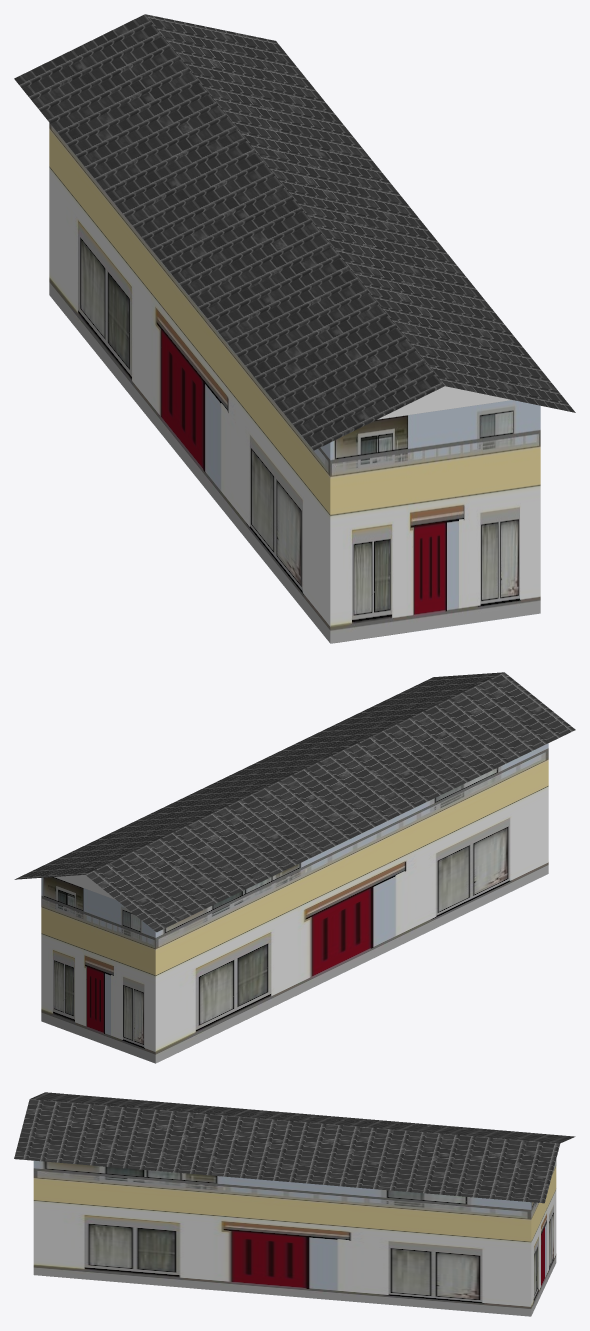
3 views of the same model, one above another, from view 1: azimuth 30°, elevation 25°; view 2: azimuth 150°, elevation 25°; view 3: azimuth 270°, elevation 25° (orthographic). The views are drawn at different scales.
Visible parts, largest first — view 1: CityEngineMaterial_16_m, CityEngineMaterial_15_m, CityEngineMaterial_3_m; view 2: CityEngineMaterial_15_m, CityEngineMaterial_16_m; view 3: CityEngineMaterial_15_m, CityEngineMaterial_16_m.
Part boxes in pixels (box(x1,y1,x2,y2)): CityEngineMaterial_16_m: box(14, 14, 575, 450); CityEngineMaterial_15_m: box(49, 123, 540, 643); CityEngineMaterial_3_m: box(378, 386, 511, 419); CityEngineMaterial_15_m: box(41, 743, 548, 1063); CityEngineMaterial_16_m: box(14, 672, 575, 932); CityEngineMaterial_15_m: box(33, 1160, 556, 1316); CityEngineMaterial_16_m: box(14, 1092, 575, 1203).
Size of the model in its own units: 15.49 by 9.62 by 33.12.
